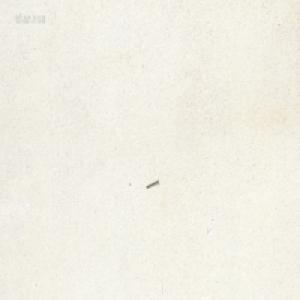Bolt: (144, 178, 159, 188)
